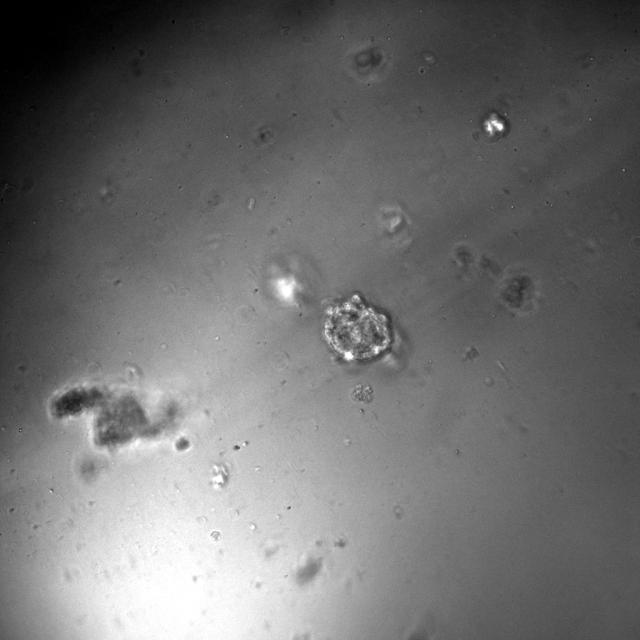organoid: (48, 383, 180, 446), (451, 243, 539, 314), (322, 292, 393, 361), (480, 110, 509, 142)
